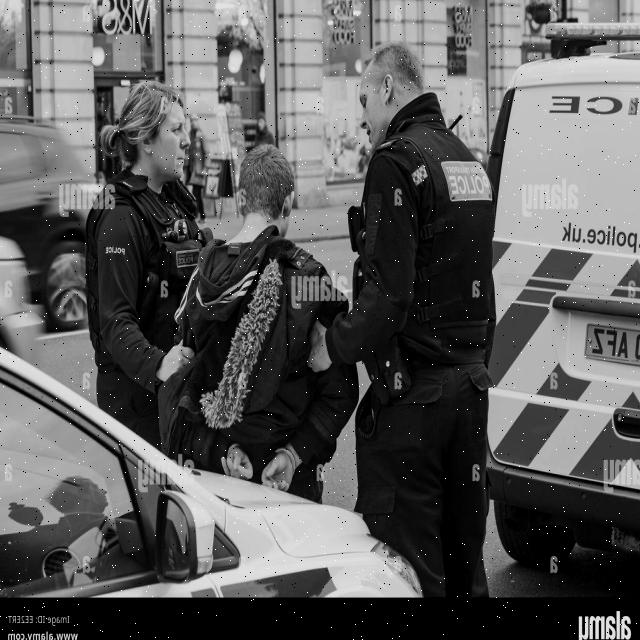police: (321, 27, 491, 640), (72, 76, 212, 481)
